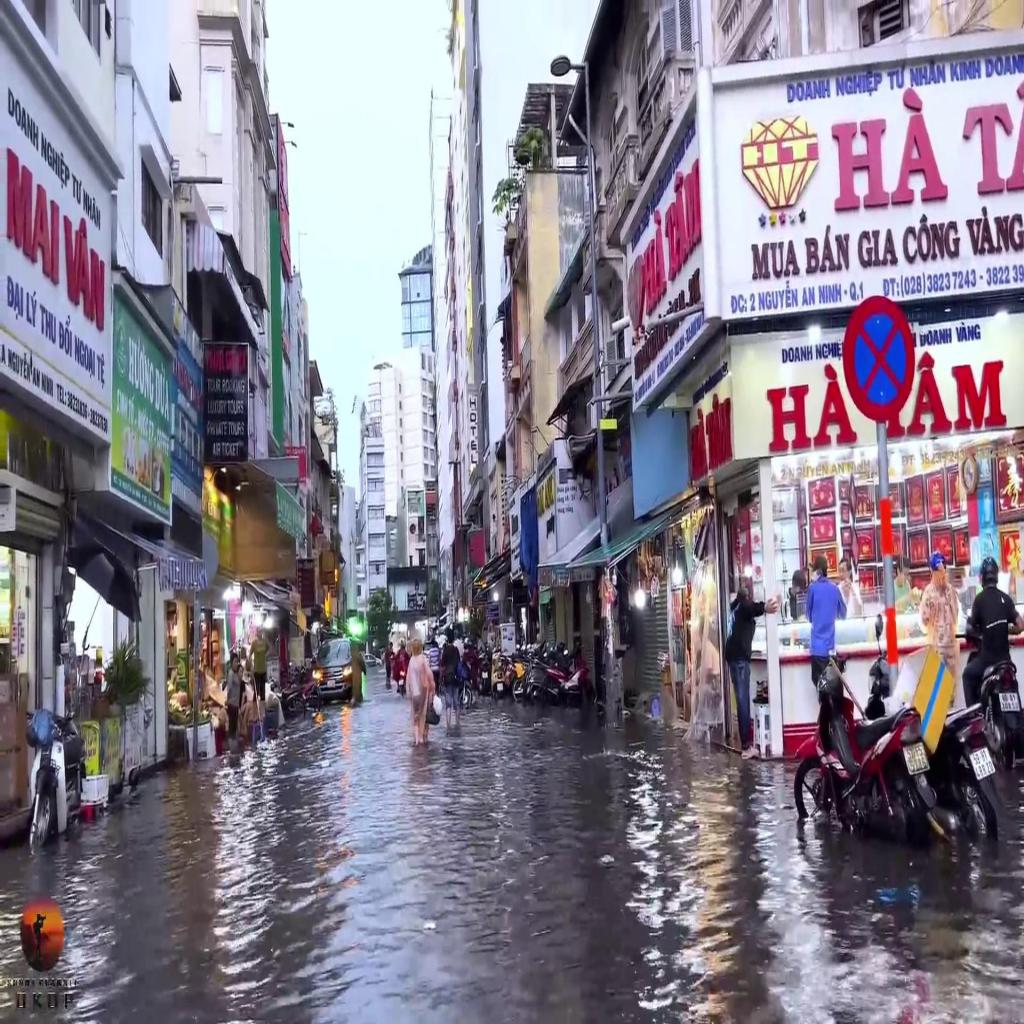cam_dung_xe_va_do_xe: (842, 293, 916, 423)
